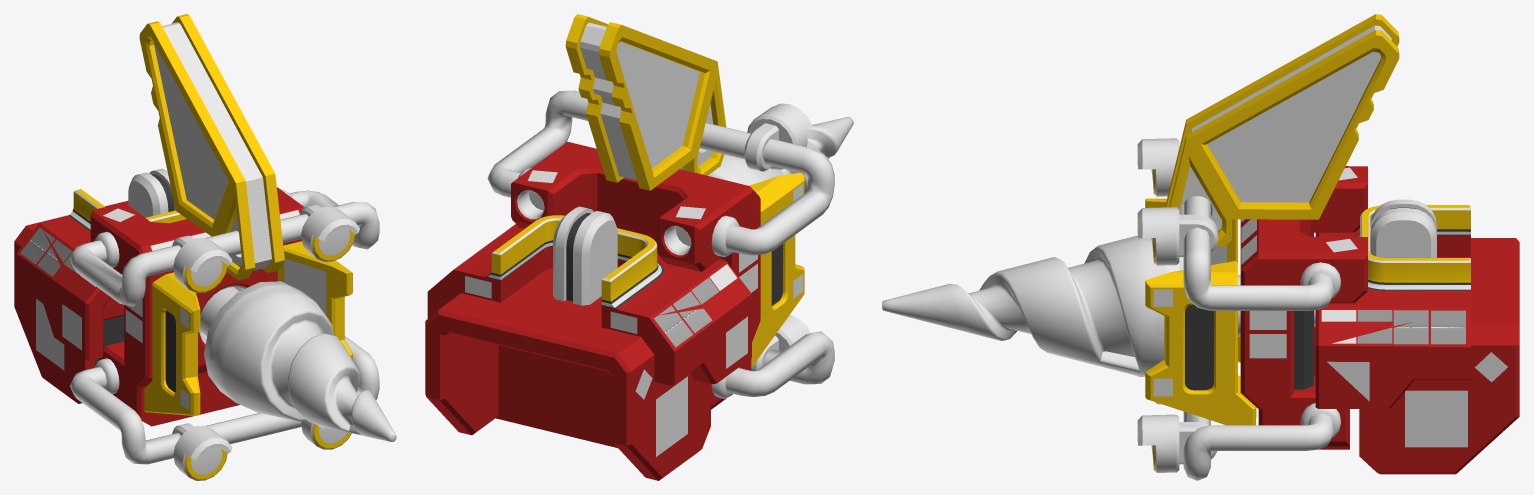
File: env_excavationsite_excavatorhead03.fbx
3 renders of one model, left to right at view 1: azimuth 30°, elevation 25°; view 2: azimuth 150°, elevation 25°; view 3: azimuth 270°, elevation 25°, orthographic. The views are drawn at different scales.
Parts seen in each view (by area): view 1: env_excavationsite_excavatorhead02_eyes, env_excavationsite_excavatorhead02_comb, env_excavationsite_excavatorhead02_drill, env_excavationsite_excavatorhead02_body01, env_excavationsite_excavatorhead02_splashguard, env_excavationsite_excavatorhead02_body02, env_excavationsite_excavatorhead02_body03, t_meshdecal_mechanic01_017.010, t_meshdecal_mechanic01_013.013, t_meshdecal_mechanic01_013.005, t_meshdecal_mechanic01_019.013, t_meshdecal_mechanic01_004.003 (+2 smaller); view 2: env_excavationsite_excavatorhead02_body03, env_excavationsite_excavatorhead02_eyes, env_excavationsite_excavatorhead02_body02, env_excavationsite_excavatorhead02_comb, env_excavationsite_excavatorhead02_body01, env_excavationsite_excavatorhead02_splashguard, t_meshdecal_mechanic01_013.013, t_meshdecal_mechanic01_017.010, env_excavationsite_excavatorhead02_drill, t_meshdecal_mechanic01_004.003, t_meshdecal_mechanic01_019.013; view 3: env_excavationsite_excavatorhead02_comb, env_excavationsite_excavatorhead02_drill, env_excavationsite_excavatorhead02_eyes, env_excavationsite_excavatorhead02_body03, env_excavationsite_excavatorhead02_body02, env_excavationsite_excavatorhead02_body01, env_excavationsite_excavatorhead02_splashguard, t_meshdecal_mechanic01_017.010, t_meshdecal_mechanic01_013.013, t_meshdecal_mechanic01_004.003, t_meshdecal_mechanic01_019.013, t_meshdecal_mechanic01_013.005.
Boxes of the visible parts, left/top/right/bottom form: env_excavationsite_excavatorhead02_eyes: left=70, top=189, right=379, bottom=480; env_excavationsite_excavatorhead02_comb: left=139, top=14, right=284, bottom=280; env_excavationsite_excavatorhead02_drill: left=204, top=281, right=396, bottom=441; env_excavationsite_excavatorhead02_body01: left=90, top=187, right=303, bottom=426; env_excavationsite_excavatorhead02_splashguard: left=144, top=241, right=352, bottom=415; env_excavationsite_excavatorhead02_body02: left=16, top=189, right=186, bottom=360; env_excavationsite_excavatorhead02_body03: left=14, top=168, right=175, bottom=403; t_meshdecal_mechanic01_017.010: left=175, top=106, right=226, bottom=206; t_meshdecal_mechanic01_013.013: left=20, top=227, right=95, bottom=350; t_meshdecal_mechanic01_013.005: left=180, top=258, right=326, bottom=410; t_meshdecal_mechanic01_019.013: left=103, top=208, right=299, bottom=343; t_meshdecal_mechanic01_004.003: left=36, top=299, right=64, bottom=370; env_excavationsite_excavatorhead02_body03: left=425, top=206, right=710, bottom=480; env_excavationsite_excavatorhead02_eyes: left=487, top=90, right=834, bottom=398; env_excavationsite_excavatorhead02_body02: left=427, top=215, right=751, bottom=385; env_excavationsite_excavatorhead02_comb: left=565, top=14, right=726, bottom=190; env_excavationsite_excavatorhead02_body01: left=511, top=142, right=760, bottom=409; env_excavationsite_excavatorhead02_splashguard: left=749, top=173, right=804, bottom=366; t_meshdecal_mechanic01_013.013: left=465, top=244, right=747, bottom=368; t_meshdecal_mechanic01_017.010: left=635, top=64, right=692, bottom=135; env_excavationsite_excavatorhead02_drill: left=708, top=117, right=853, bottom=193; t_meshdecal_mechanic01_004.003: left=635, top=369, right=687, bottom=456; t_meshdecal_mechanic01_019.013: left=527, top=170, right=757, bottom=292; env_excavationsite_excavatorhead02_comb: left=1165, top=14, right=1399, bottom=246; env_excavationsite_excavatorhead02_drill: left=882, top=235, right=1183, bottom=376; env_excavationsite_excavatorhead02_eyes: left=1137, top=138, right=1340, bottom=480; env_excavationsite_excavatorhead02_body03: left=1359, top=199, right=1519, bottom=474; env_excavationsite_excavatorhead02_body02: left=1315, top=205, right=1470, bottom=408; env_excavationsite_excavatorhead02_body01: left=1240, top=166, right=1367, bottom=449; env_excavationsite_excavatorhead02_splashguard: left=1145, top=198, right=1256, bottom=425; t_meshdecal_mechanic01_017.010: left=1222, top=98, right=1335, bottom=188; t_meshdecal_mechanic01_013.013: left=1321, top=310, right=1465, bottom=401; t_meshdecal_mechanic01_004.003: left=1405, top=352, right=1507, bottom=447; t_meshdecal_mechanic01_019.013: left=1241, top=167, right=1357, bottom=358; t_meshdecal_mechanic01_013.005: left=1153, top=245, right=1226, bottom=396.
Bounding box in the file's own units: 144 × 200 × 281.
